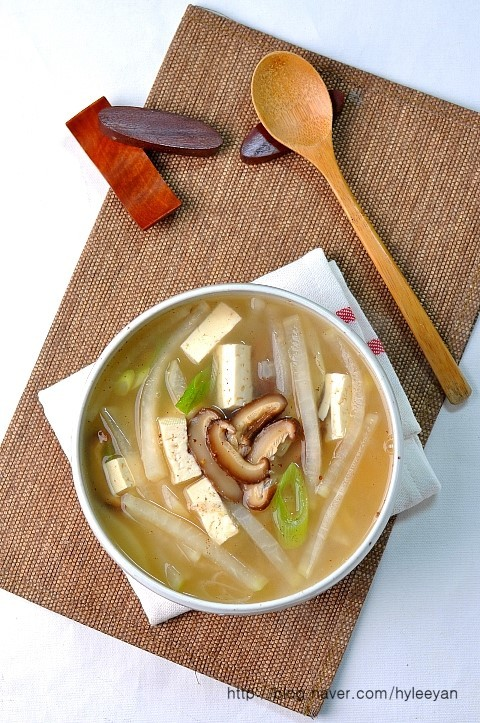mugug: (75, 289, 396, 605)
